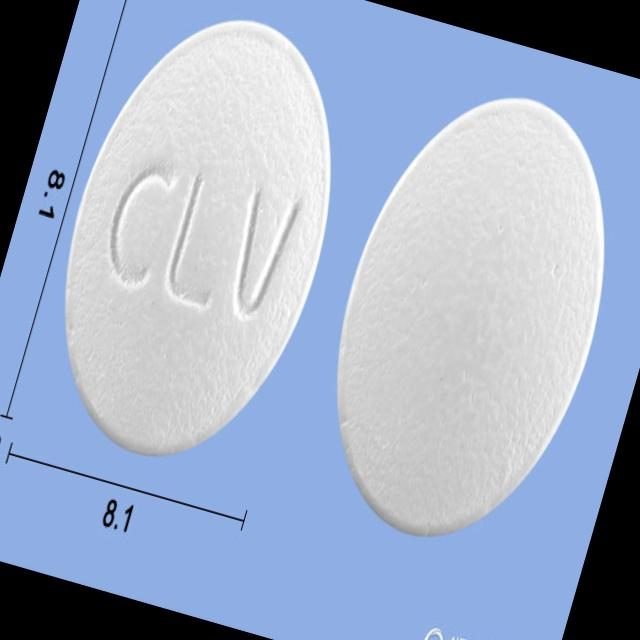Clevote: (17, 0, 379, 488)
